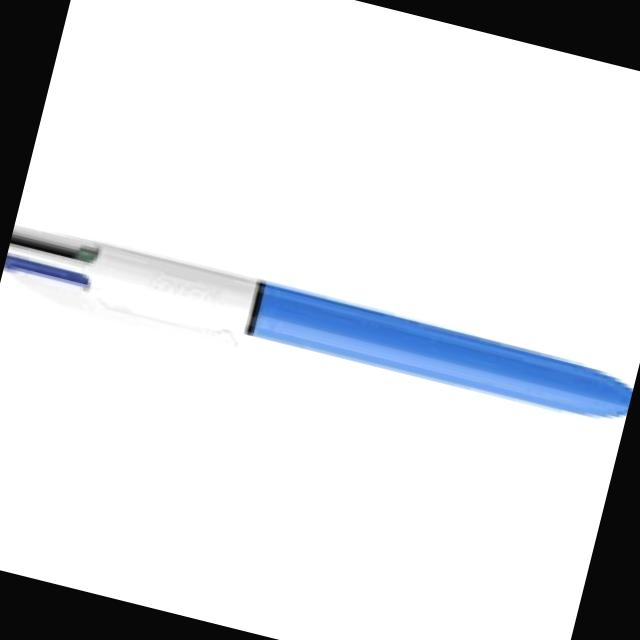Pen - Non Recyclable: (0, 218, 637, 452)
